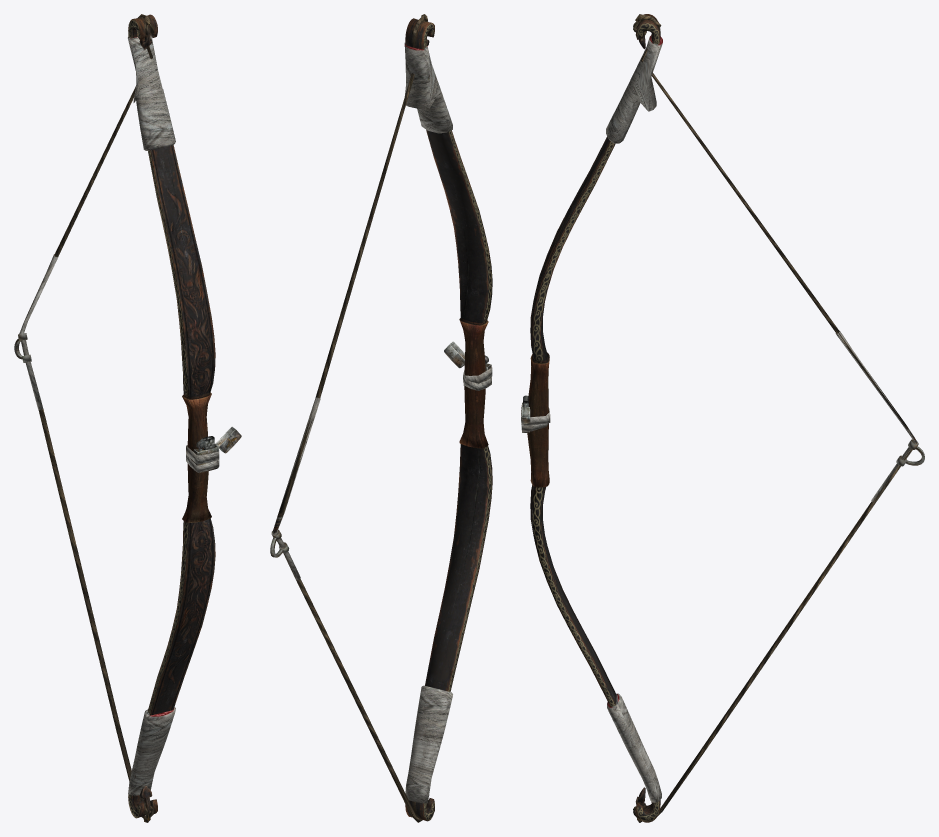
Rendered from bow_02.obj.
3 views of the same model, side by side, from view 1: azimuth 30°, elevation 25°; view 2: azimuth 150°, elevation 25°; view 3: azimuth 270°, elevation 25° (orthographic).
Visible parts, largest first — view 1: bow_03:Mesh; view 2: bow_03:Mesh; view 3: bow_03:Mesh.
Part boxes in pixels (<box>): bow_03:Mesh: <box>14,14,241,822</box>; bow_03:Mesh: <box>270,14,492,822</box>; bow_03:Mesh: <box>521,14,924,822</box>.
Bounding box in the file's own units: 0.00678 × 0.1012 × 0.0458.
2 materials, 2 textured.
